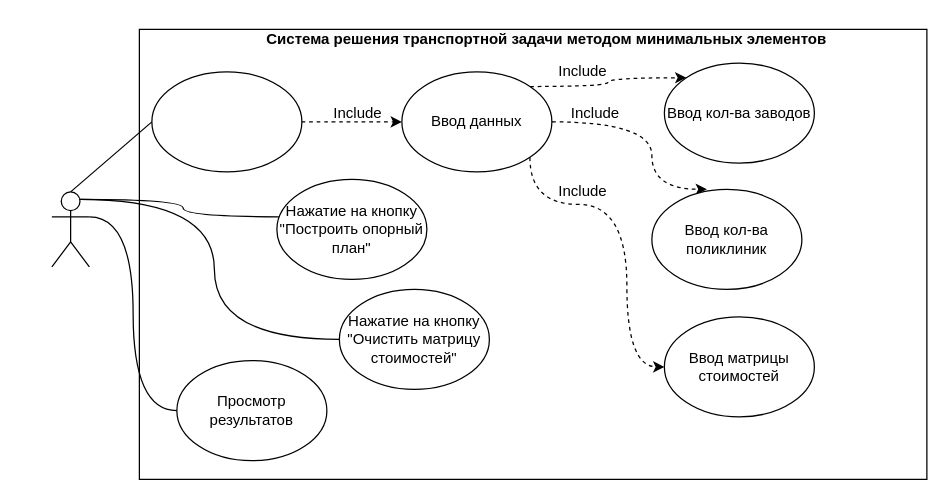
Some shapes in this 949 by 501 pixel diagram are drawn without their labels. Each missing label, with the centre of its shape:
"Выбор метода" goes at [226,121].
"Пользователь" goes at [70,229].
